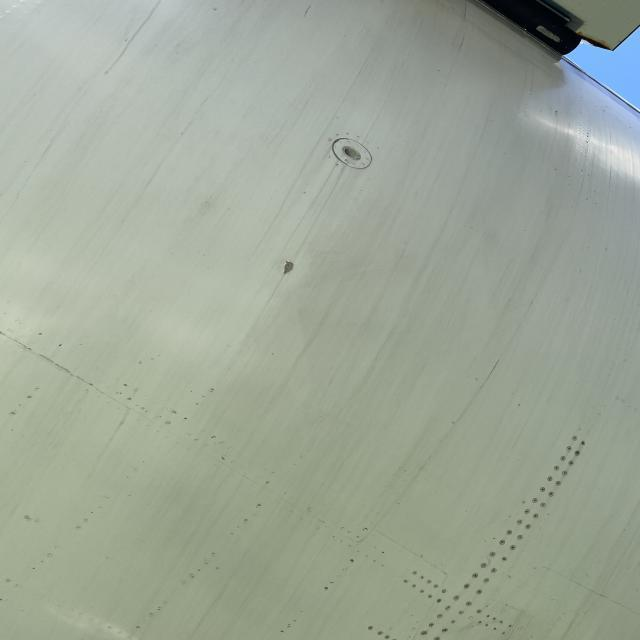crack: (473, 354, 510, 389), (267, 258, 300, 286)
